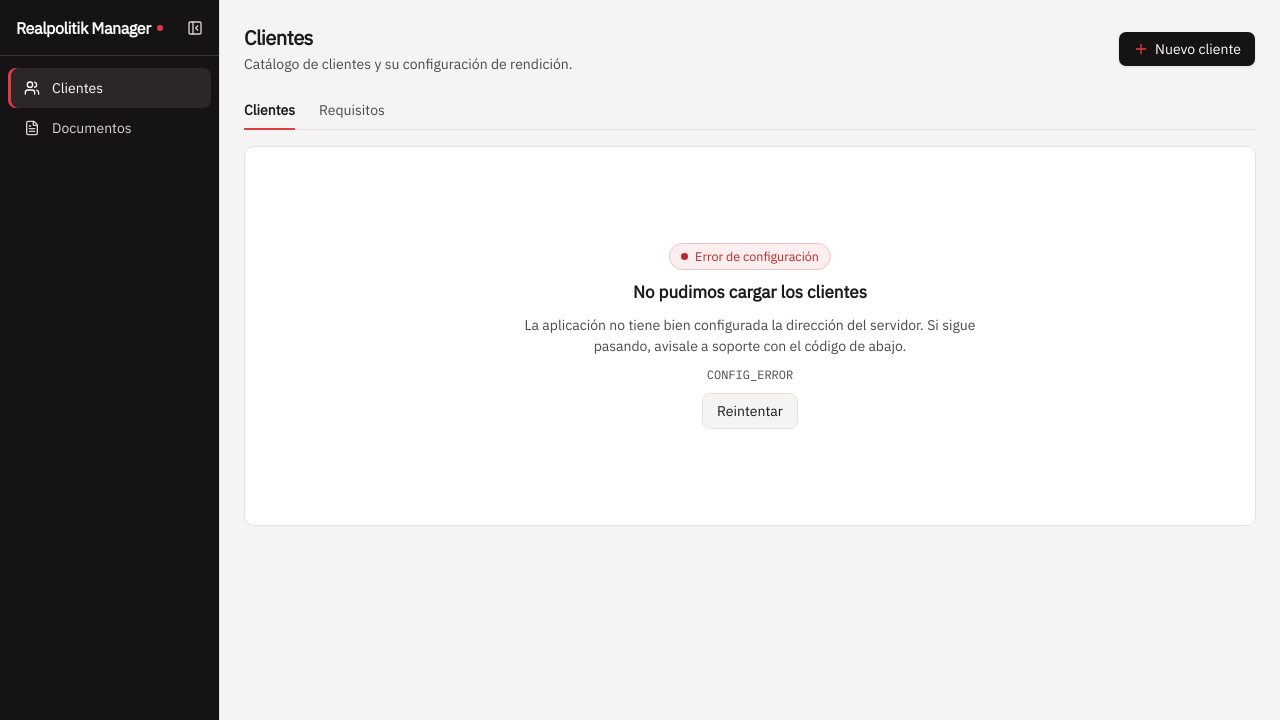
Test case: AppLayout › colapsa y expande el Sidebar desde un botón en su encabezado, junto a la marca
This screenshot has width=1280, height=720.
Click the button named "Contraer barra lateral" at [195, 28], box 179,12 -> 211,44
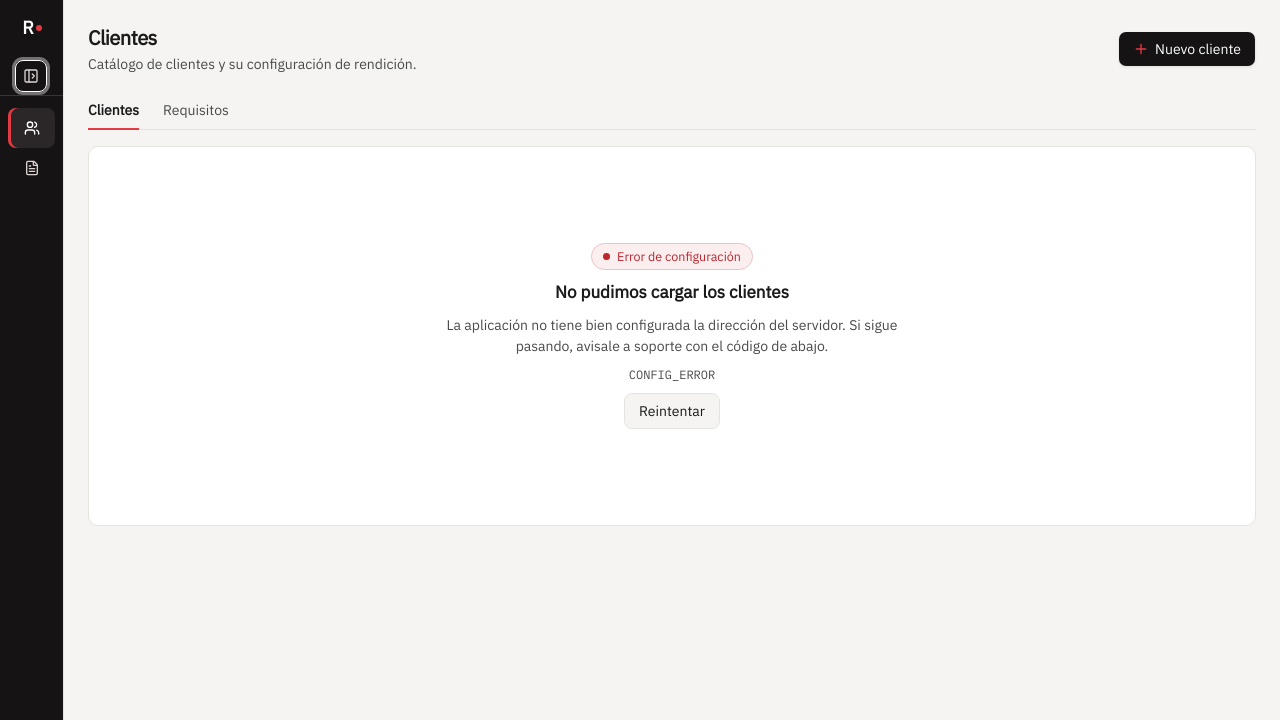
Now the button named "Expandir barra lateral" is shown
Now the 1st link named "Clientes" is shown, box 8,108 -> 55,148
Click the button named "Expandir barra lateral" at [31, 76], box 15,60 -> 47,92
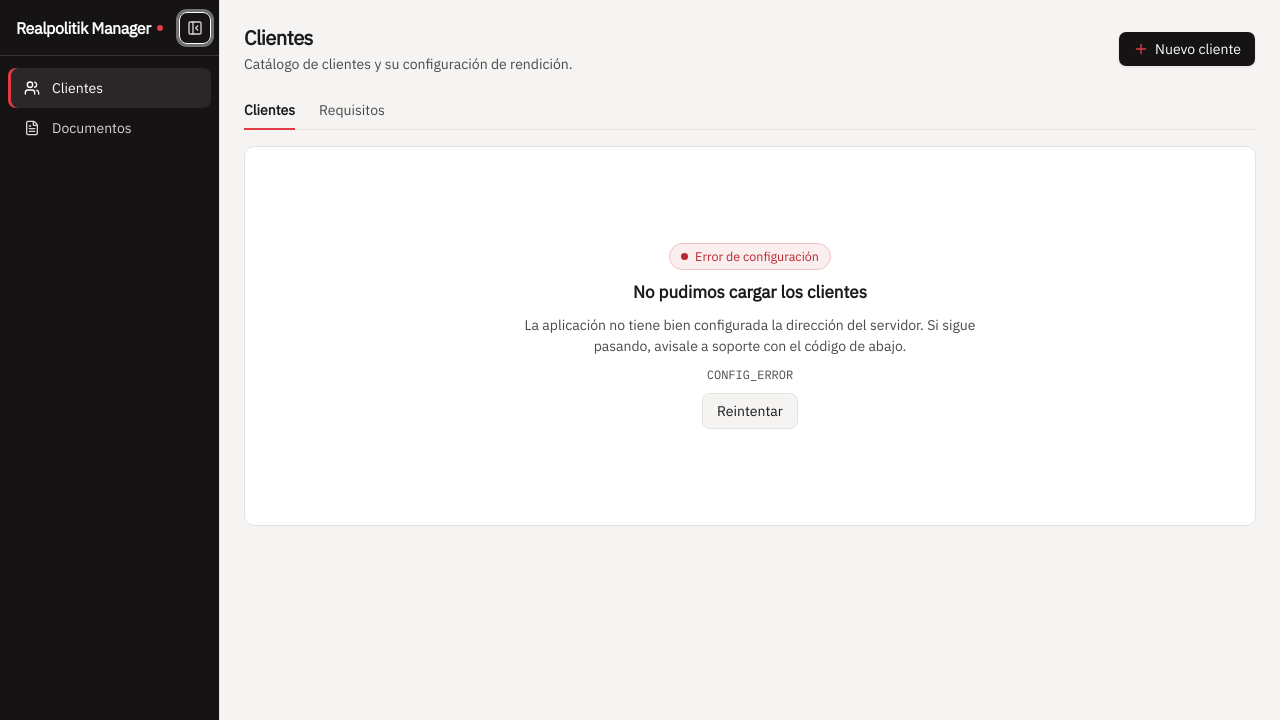
Now the button named "Contraer barra lateral" is shown, box 179,12 -> 211,44
